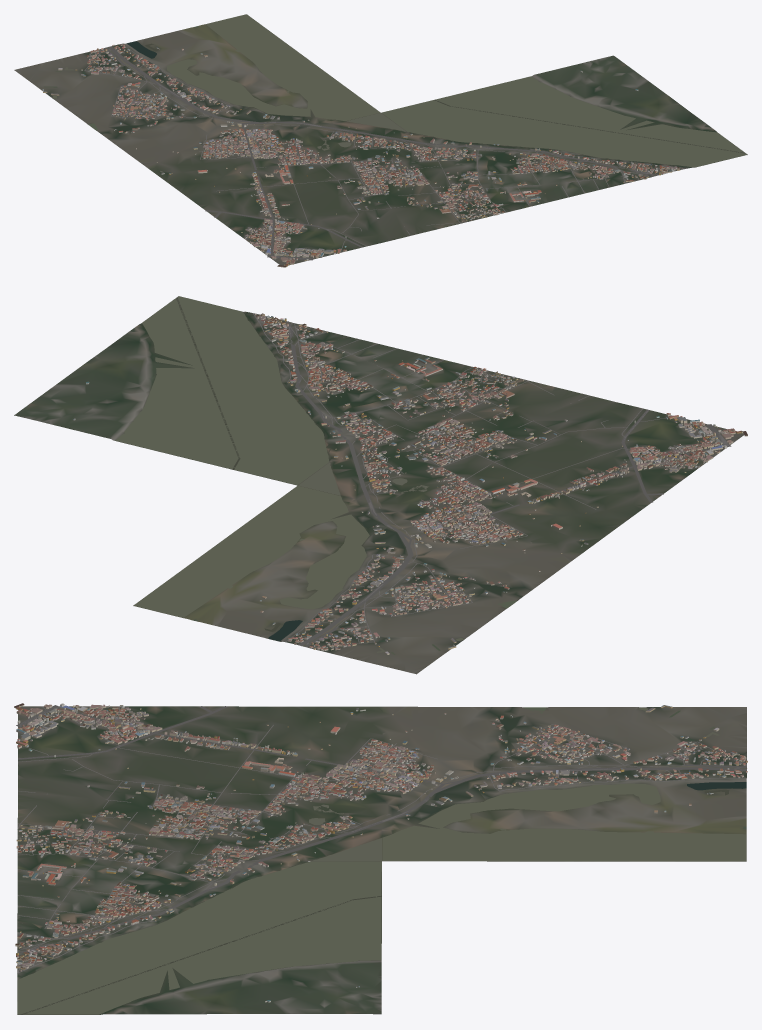
The picture shows the model from 3 angles, top to bottom: view 1: azimuth 30°, elevation 25°; view 2: azimuth 150°, elevation 25°; view 3: azimuth 270°, elevation 25°; orthographic projection. The views are drawn at different scales.
Parts seen in each view (by area): view 1: ground, water, buildings, roads; view 2: ground, water, buildings, roads; view 3: ground, water, buildings, roads.
Boxes of the visible parts, x1,y1,x2,y2 form: ground: [14, 24, 747, 265]; water: [44, 14, 747, 167]; buildings: [42, 44, 682, 267]; roads: [84, 44, 686, 260]; ground: [14, 297, 743, 674]; water: [115, 296, 516, 654]; buildings: [73, 313, 747, 654]; roads: [252, 313, 734, 648]; ground: [17, 706, 746, 1014]; water: [17, 707, 746, 1014]; buildings: [14, 703, 747, 1002]; roads: [16, 705, 746, 973].
Size of the model in its own units: 2818 by 23.96 by 2823.
